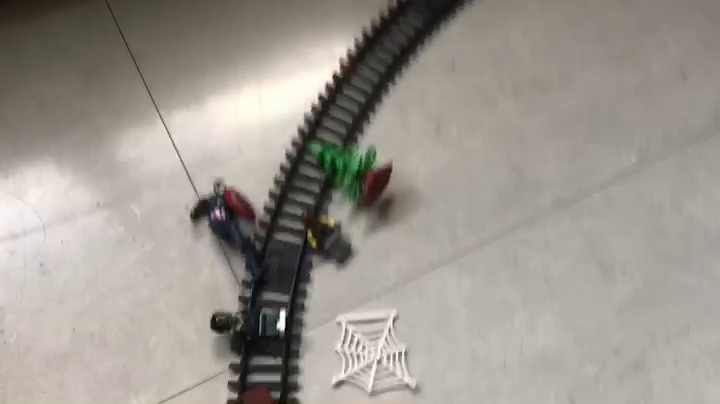people: (190, 177, 274, 292), (211, 305, 290, 350), (298, 212, 355, 267)
tree: (307, 139, 398, 209)
web: (328, 309, 419, 394)
